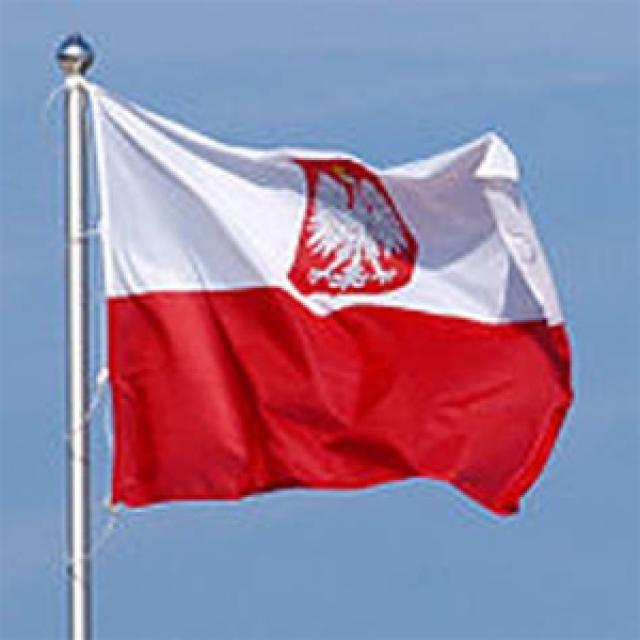poland: (46, 51, 586, 512)
